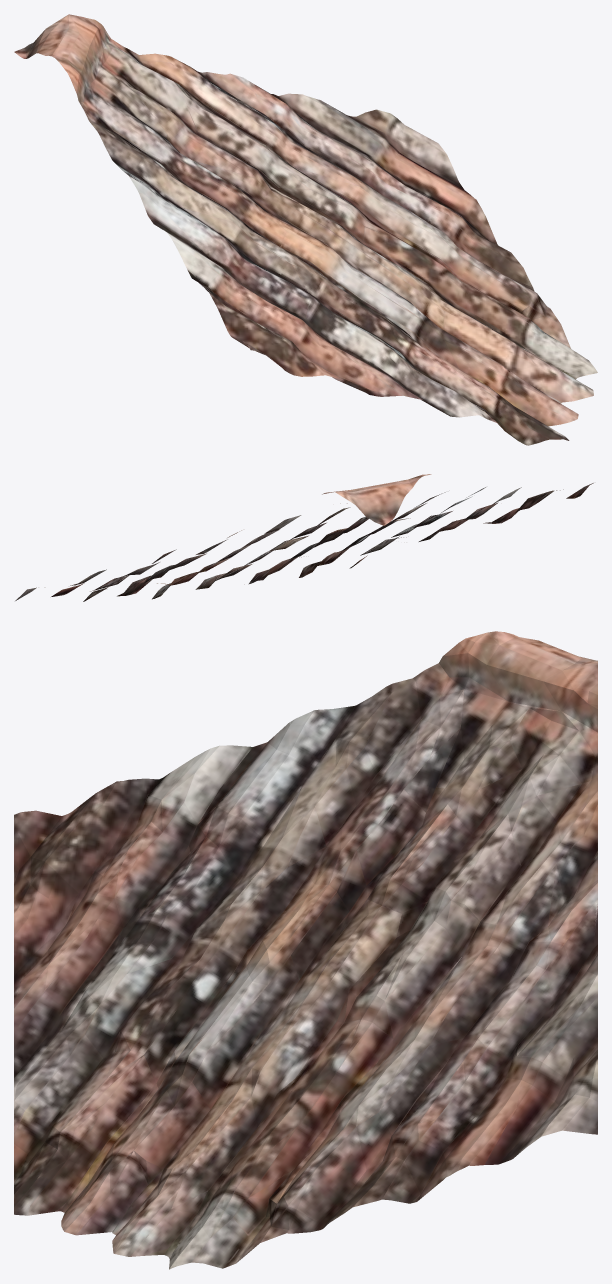
3 renders of one model, top to bottom at view 1: azimuth 30°, elevation 25°; view 2: azimuth 150°, elevation 25°; view 3: azimuth 270°, elevation 25°, orthographic. The views are drawn at different scales.
Size of the model in its own units: 1.67 by 1.24 by 1.67.
Materials: 3 (3 with a texture image).
